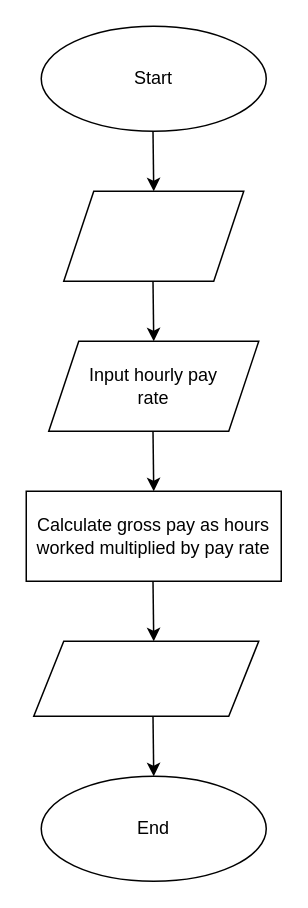
This 308x908 diagram has some shape labels left out. Each missing label, with the centre of its shape:
"Display result" belongs at (145,678).
"Input hours worked" belongs at (153,235).
